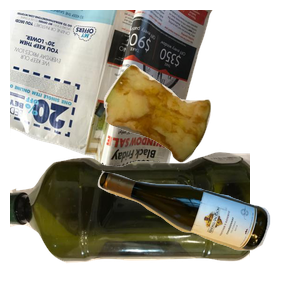glass: (95, 168, 300, 300)
paper: (10, 10, 215, 186)
plastic: (10, 149, 250, 300)
trash: (101, 62, 300, 217)
